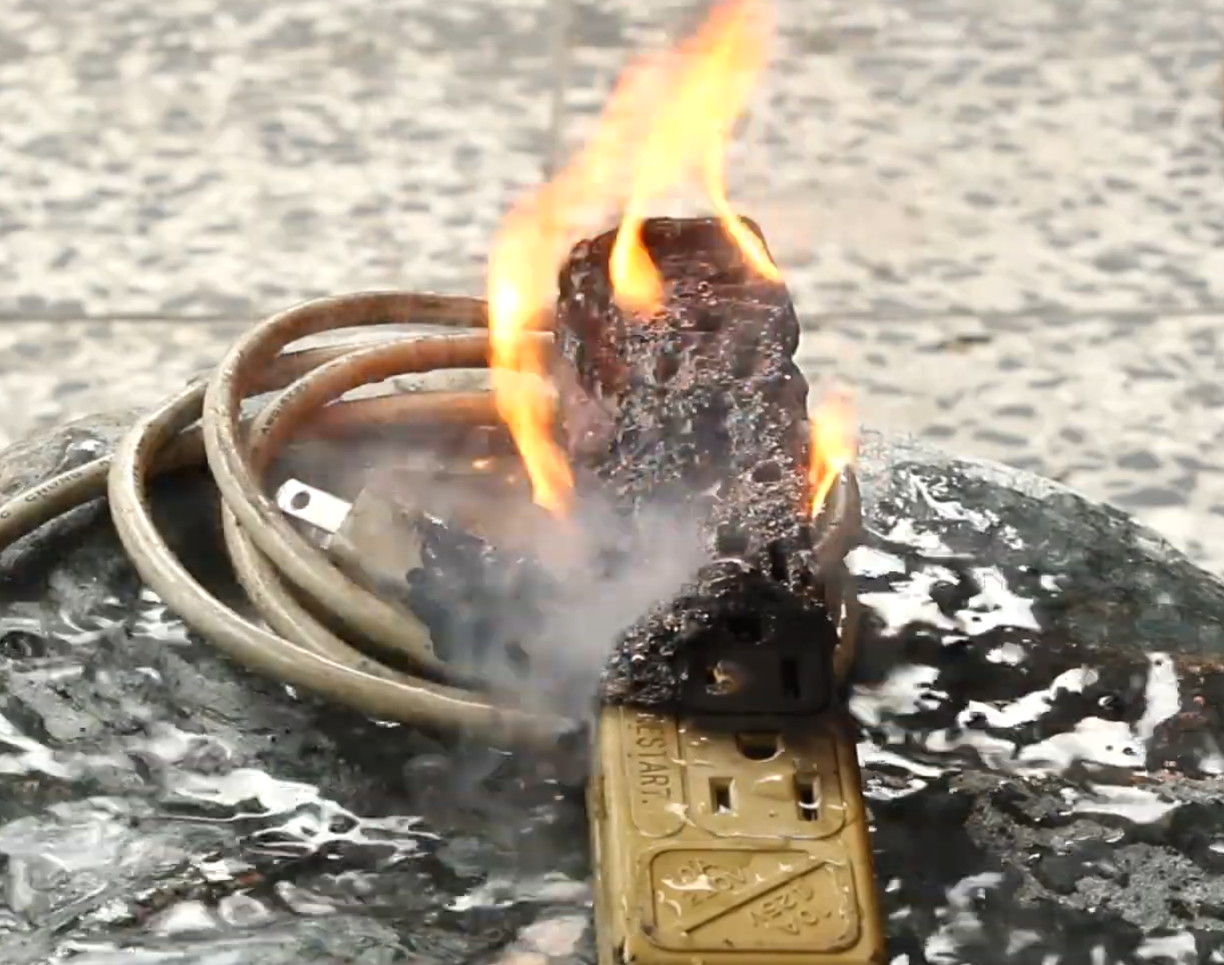Fire: (425, 1, 994, 746)
